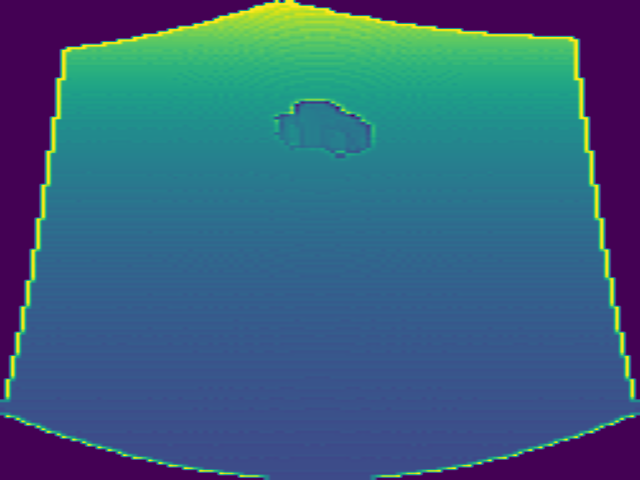car_0027: (274, 100, 374, 158)
